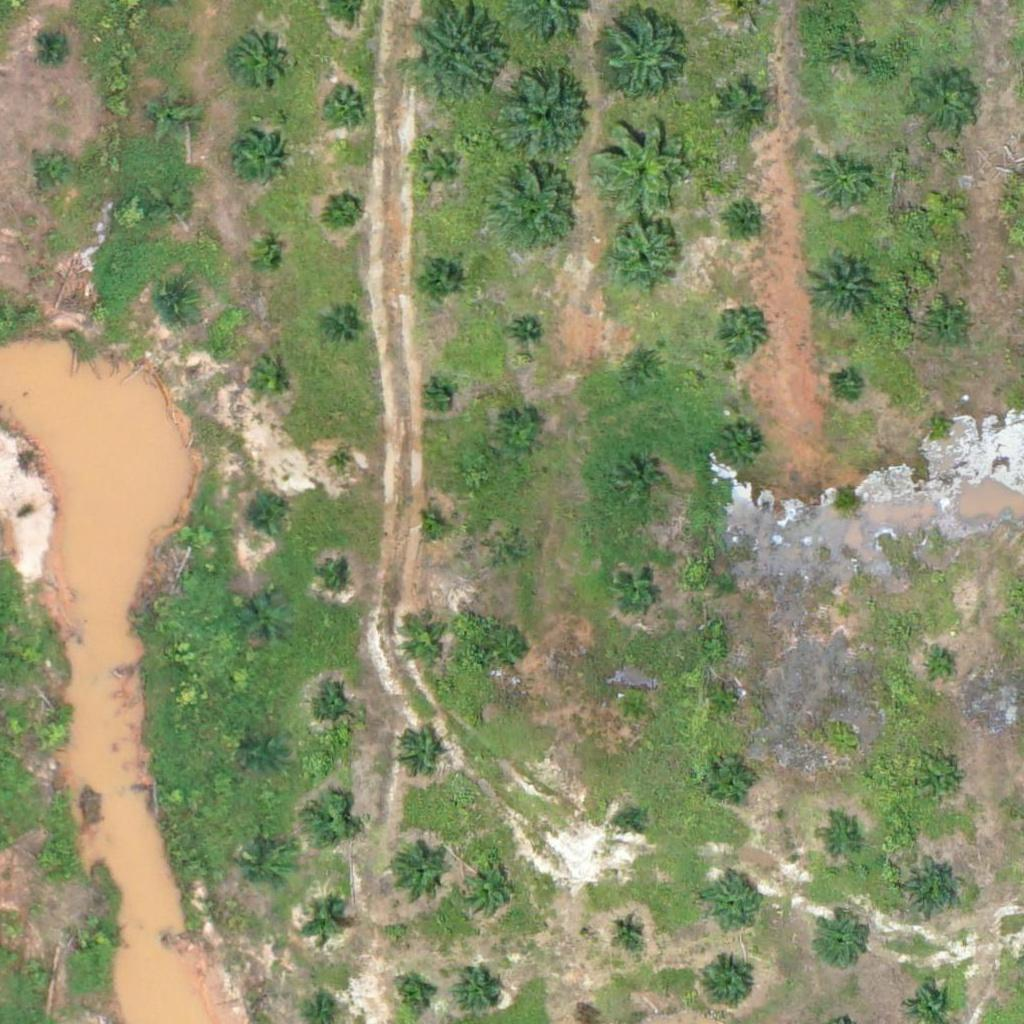Kelapa_Sawit: (592, 113, 692, 214), (410, 5, 510, 106), (599, 214, 687, 302), (490, 163, 578, 251), (502, 71, 590, 159), (599, 3, 686, 91), (805, 250, 880, 326), (902, 857, 965, 920), (456, 858, 519, 921), (913, 73, 975, 136), (813, 152, 875, 215), (696, 954, 758, 1017), (700, 872, 762, 935), (229, 129, 291, 192), (817, 22, 879, 85), (390, 840, 452, 903), (486, 623, 536, 674), (816, 916, 866, 967), (706, 753, 756, 804), (232, 32, 282, 83), (919, 183, 969, 234), (399, 617, 449, 668), (245, 356, 295, 407), (148, 89, 198, 140), (720, 81, 770, 131), (925, 304, 975, 354), (307, 688, 357, 738), (305, 797, 355, 847), (394, 730, 444, 780), (454, 966, 504, 1016), (714, 310, 764, 360), (717, 424, 767, 474), (614, 563, 664, 613), (614, 456, 664, 506), (621, 342, 671, 392), (494, 412, 544, 462), (413, 252, 463, 302), (241, 596, 291, 646), (416, 143, 466, 193), (321, 79, 371, 129), (243, 847, 293, 897), (819, 822, 857, 860), (304, 902, 342, 940), (392, 976, 430, 1014), (18, 953, 56, 991), (28, 840, 66, 878), (34, 715, 72, 753), (245, 497, 283, 535), (924, 765, 961, 803), (611, 913, 648, 951), (82, 915, 119, 953), (615, 689, 653, 726), (489, 534, 527, 571), (248, 241, 286, 278), (245, 735, 282, 773), (38, 29, 76, 66), (155, 187, 193, 224), (328, 189, 365, 227), (708, 683, 745, 721), (324, 313, 361, 350), (156, 285, 193, 322), (33, 155, 70, 192), (834, 373, 859, 399), (927, 655, 952, 680), (927, 411, 952, 436), (617, 810, 642, 835), (425, 383, 450, 408), (418, 513, 443, 538), (330, 452, 355, 477), (324, 564, 349, 589), (735, 209, 760, 234), (833, 600, 858, 625), (513, 319, 537, 344)
